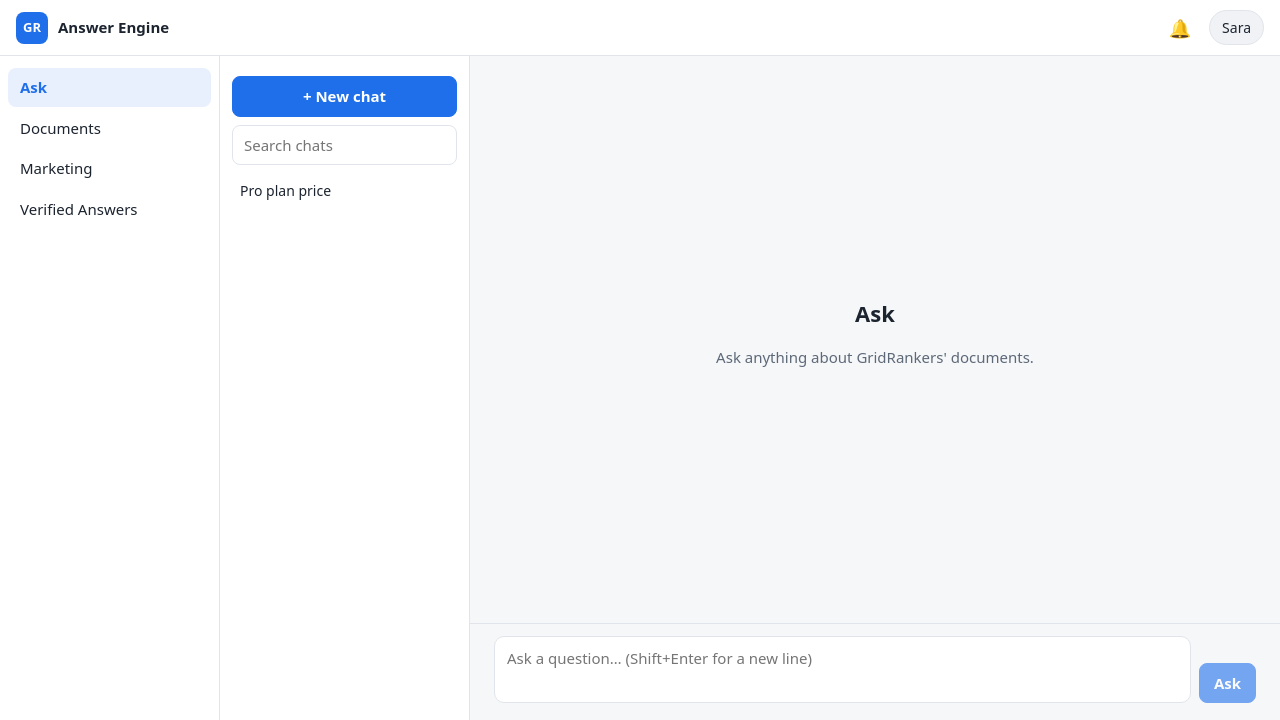
Test: opening a chat loads its messages; deleting asks first
Click the button "Pro plan price" at (332, 190), box [232,173,432,208]
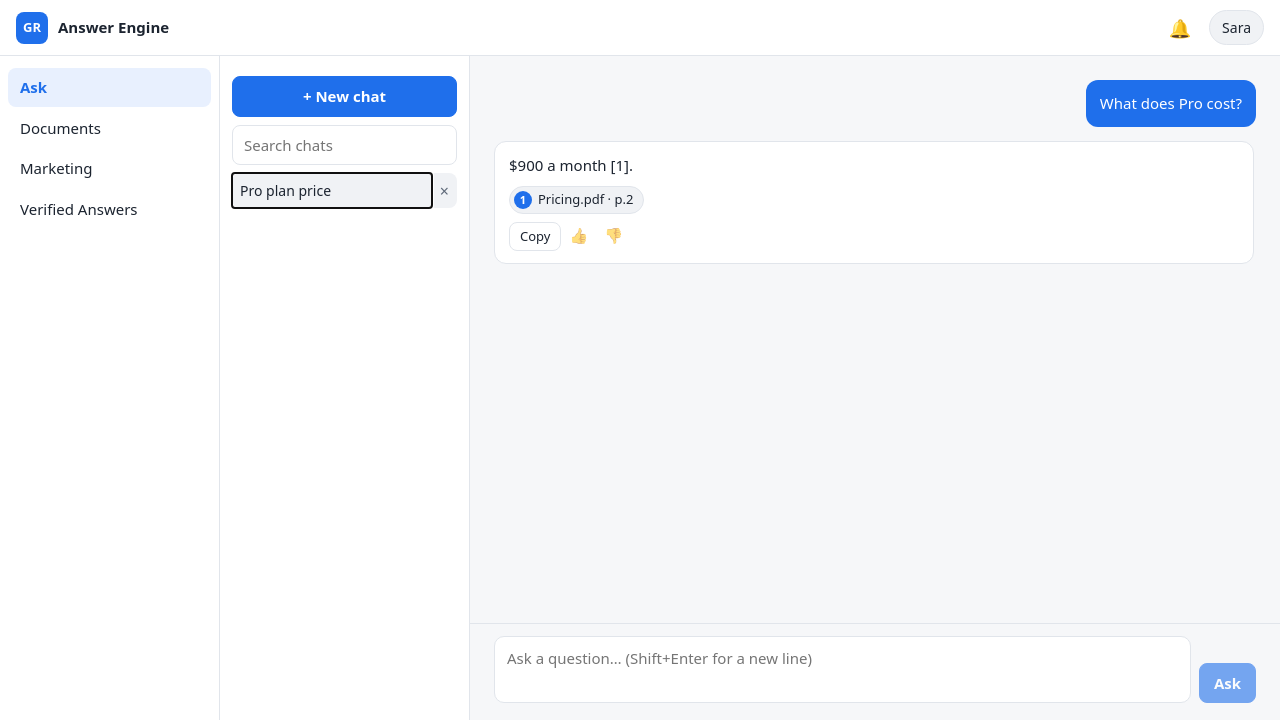
Expected: the text "$900 a month [1]." is shown, [509,154,633,174]
Expected: the link "1 Pricing.pdf · p.2" is shown, [509,186,644,214]
Click the button named "Delete Pro plan price" at (444, 190), box [432,178,457,202]
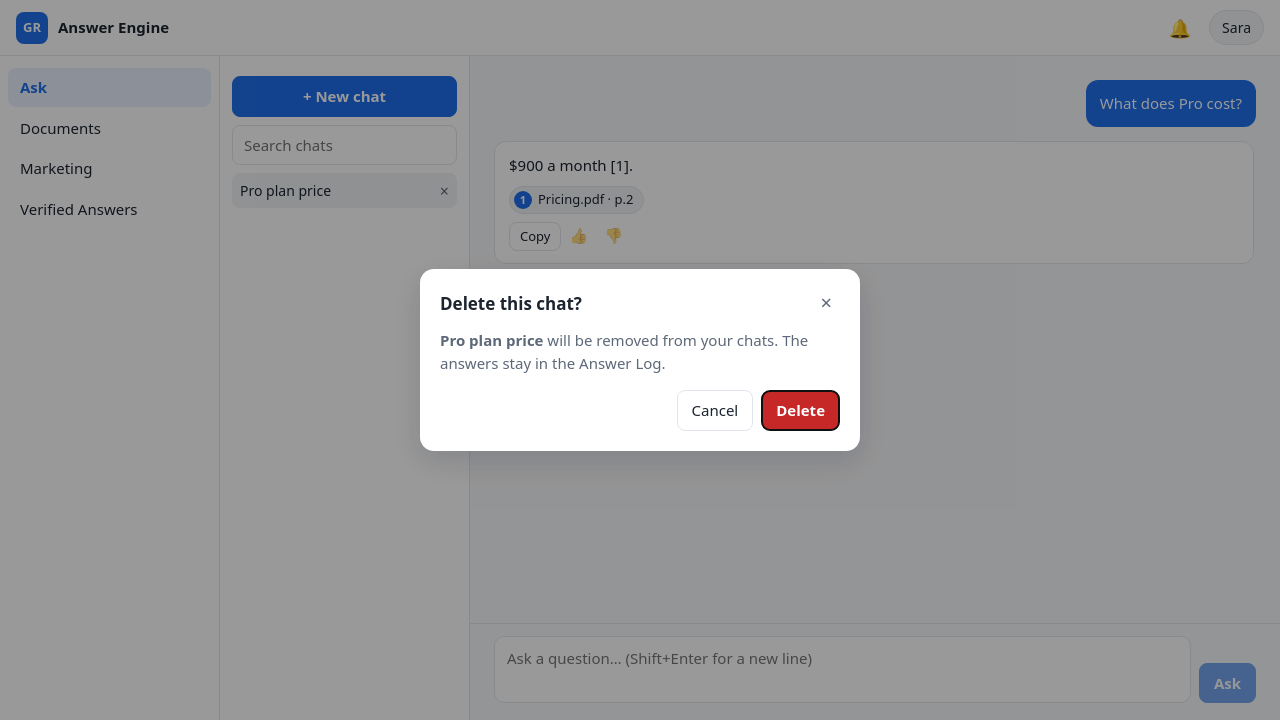
Click the button "Delete" at (801, 411), box [761,390,840,431]
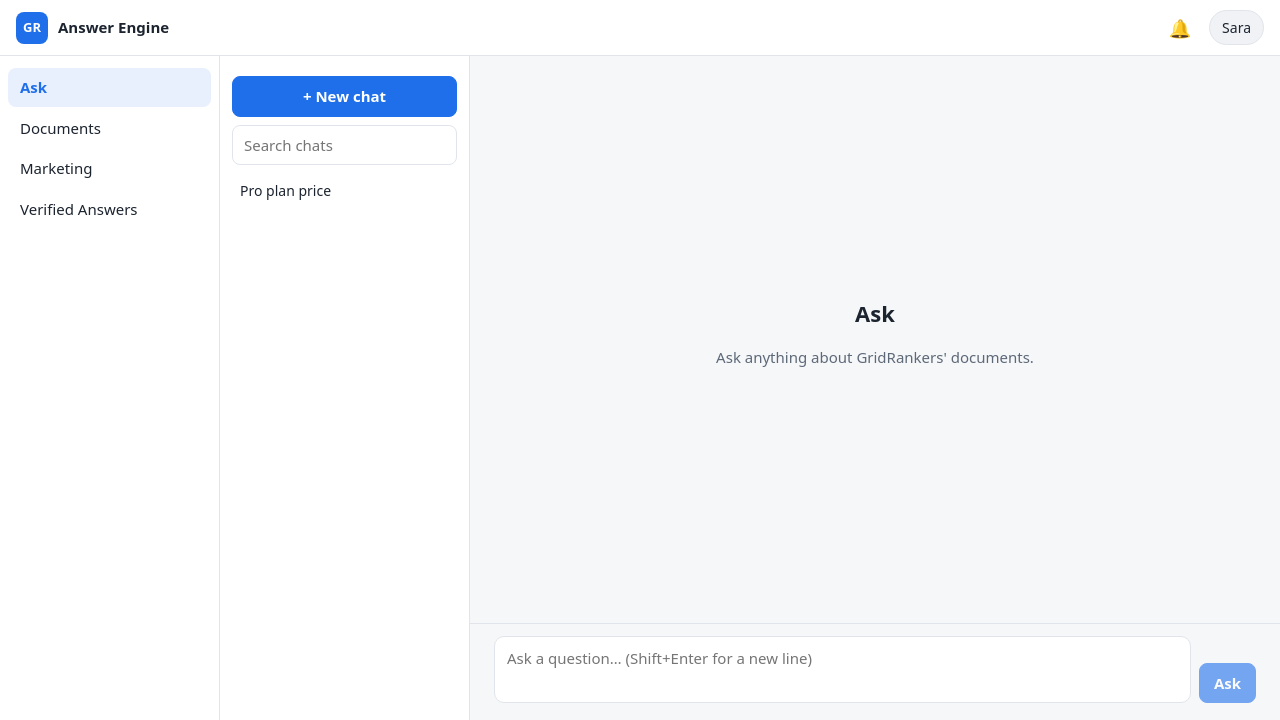
Expected: the text "Ask anything about GridRankers' documents." is shown, [716,346,1034,368]
